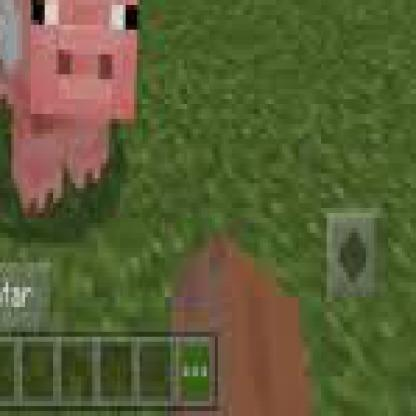minecraft-pigs: (0, 0, 162, 238)
